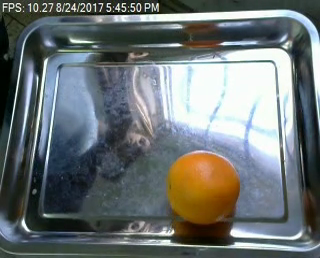Orange: (167, 149, 240, 222)
